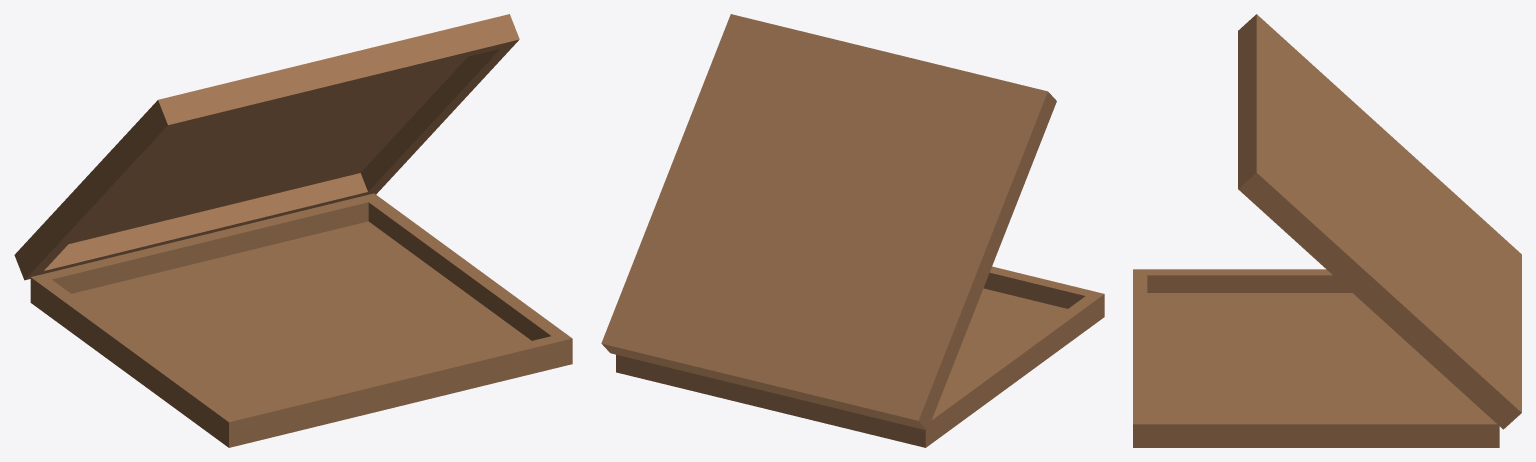
File: PizzaBox_01.fbx
The picture shows the model from 3 angles, left to right: view 1: azimuth 30°, elevation 25°; view 2: azimuth 150°, elevation 25°; view 3: azimuth 270°, elevation 25°; orthographic projection. The views are drawn at different scales.
Visible parts, largest first — view 1: PizzaBox_01, PizzaBox_01_Top; view 2: PizzaBox_01_Top, PizzaBox_01; view 3: PizzaBox_01_Top, PizzaBox_01.
Part boxes in pixels (x1,y1,x2,y2): PizzaBox_01: (30, 193, 572, 447); PizzaBox_01_Top: (14, 14, 519, 280); PizzaBox_01_Top: (601, 14, 1056, 430); PizzaBox_01: (616, 266, 1104, 447); PizzaBox_01_Top: (1238, 14, 1521, 429); PizzaBox_01: (1133, 269, 1499, 447).
Size of the model in its own units: 0.4651 by 0.3793 by 0.4821.
